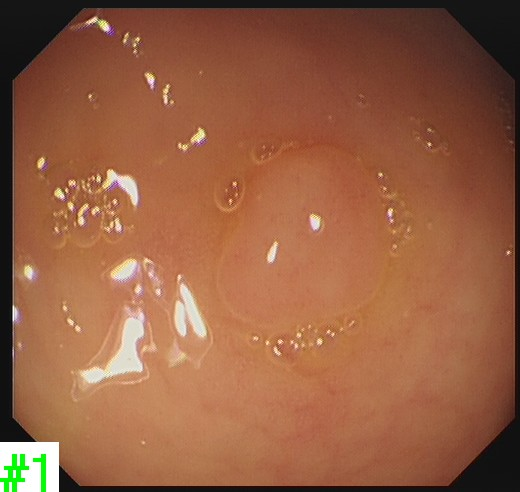adenoma: (214, 141, 392, 333)
